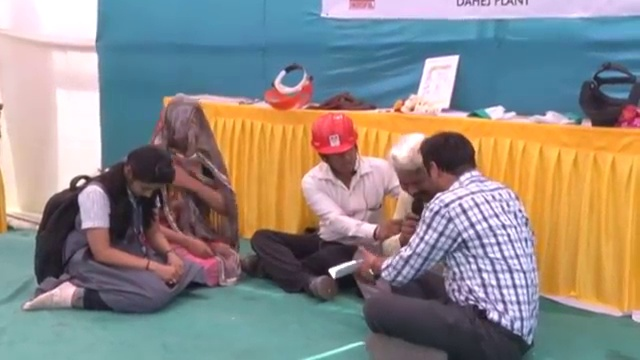helmet: (309, 112, 361, 158)
helmet_off: (389, 134, 441, 206), (420, 134, 477, 192), (114, 146, 170, 201), (158, 99, 208, 159)
helmet_on: (309, 111, 363, 179)
person: (367, 130, 542, 359), (239, 100, 411, 295), (28, 144, 199, 318), (148, 82, 236, 284), (348, 131, 445, 299)
